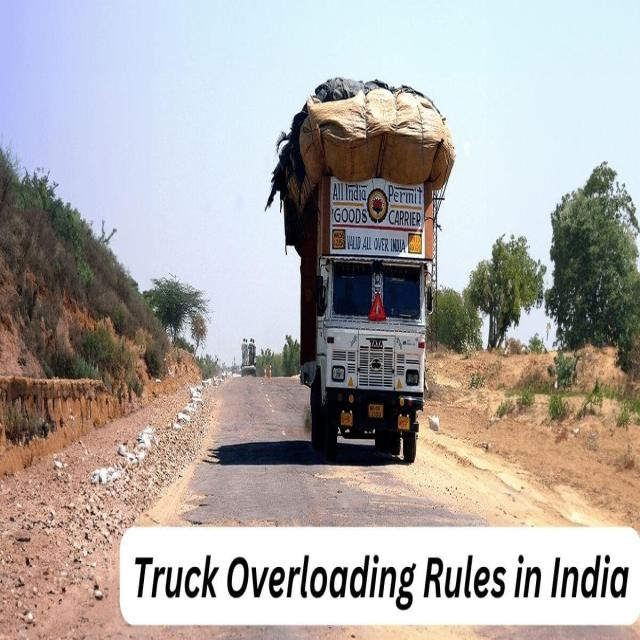truck: (268, 78, 455, 462)
